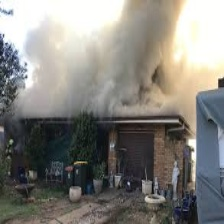smoke: (23, 6, 184, 113)
